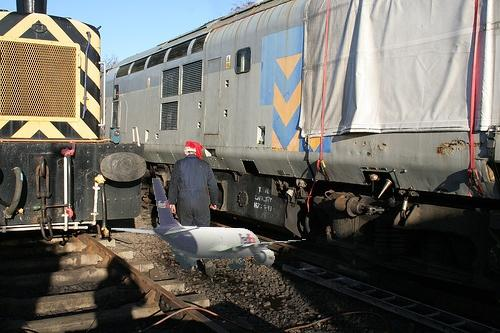tampered: (112, 179, 306, 269)
